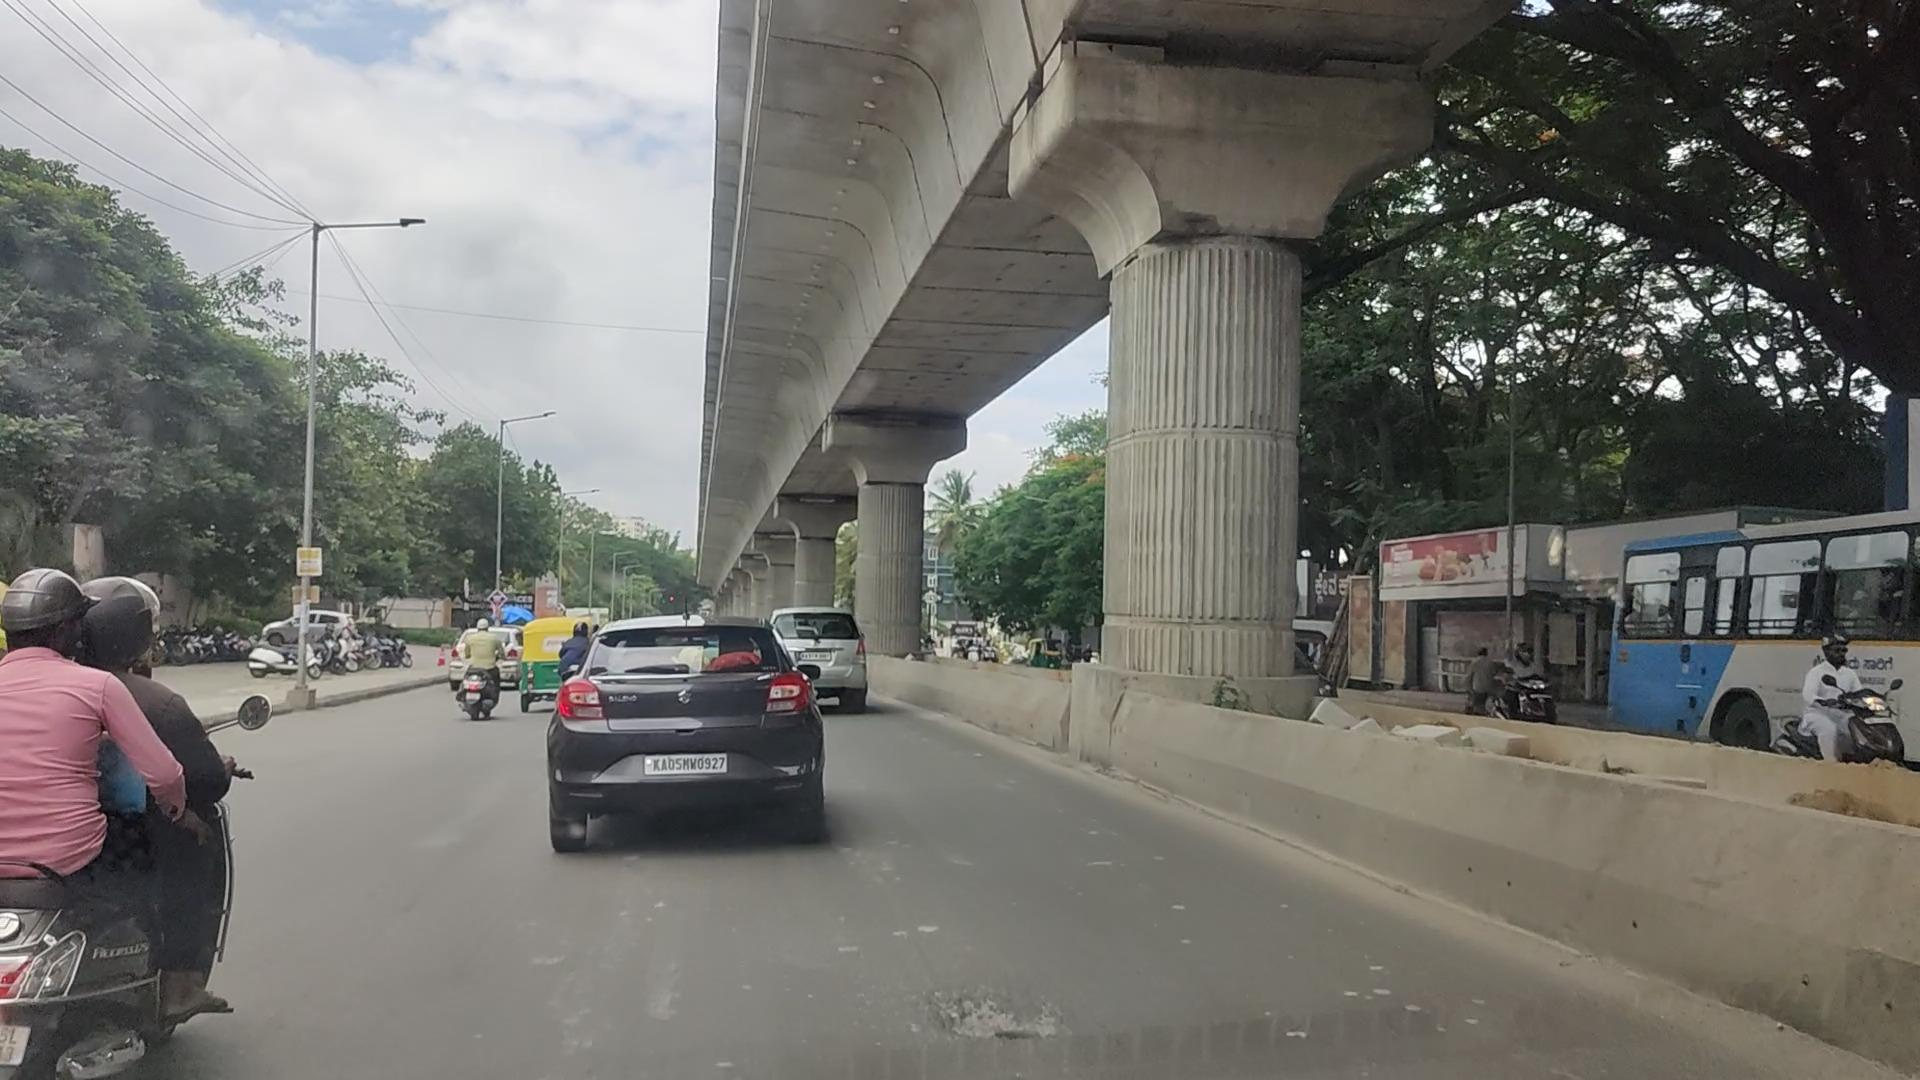LMV: (11, 567, 232, 1080), (551, 617, 828, 857), (460, 613, 505, 717)
RoadDamages: (923, 994, 1068, 1062)
